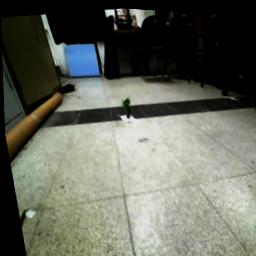herb: (121, 95, 133, 116)
